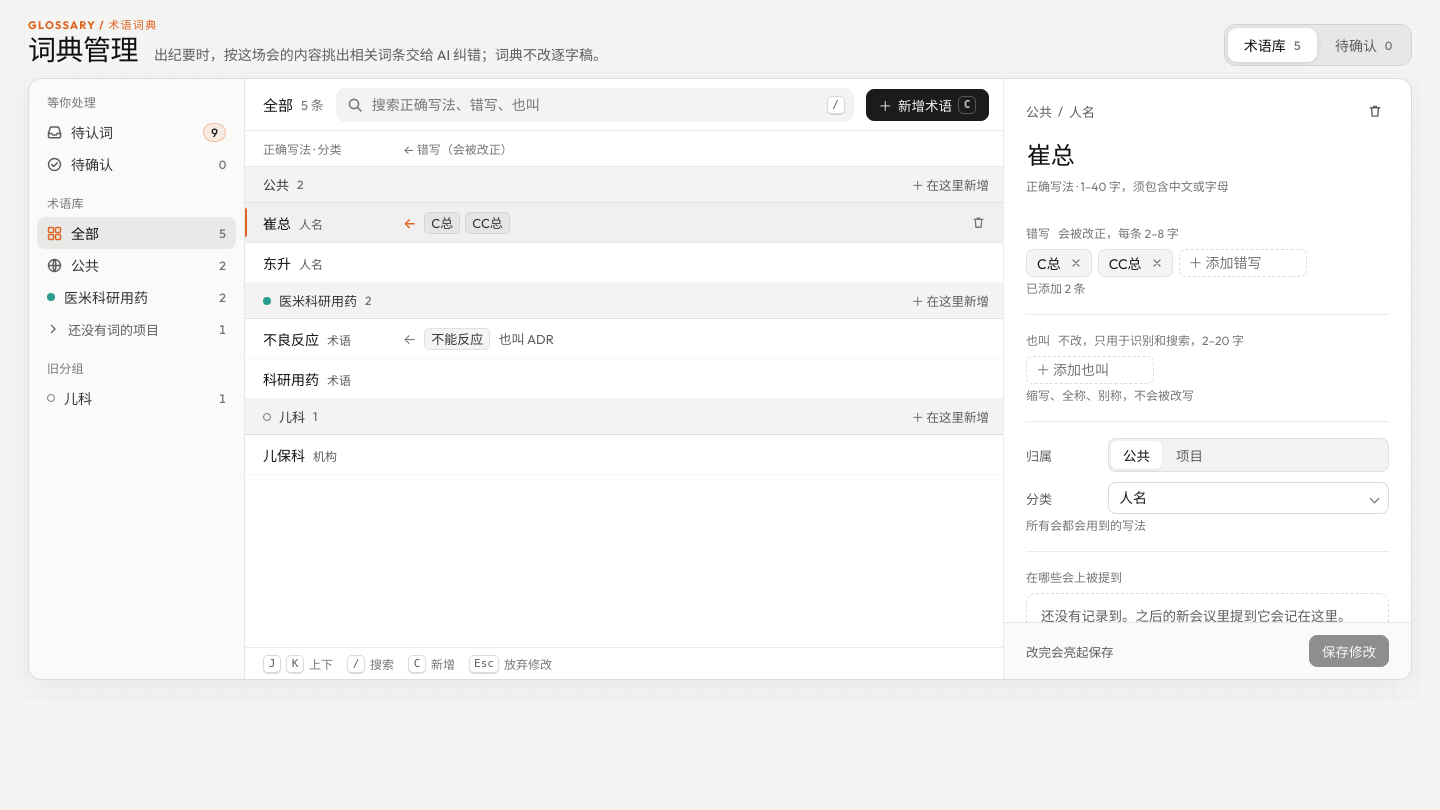
Test case: 词典页 · 左栏 › 等你处理：待认词和待确认带数字；术语库：全部、公共、有词项目、旧分组
Expected: the text "崔总" is shown, [263,213,291,233]
Expected: the field named "正确写法" is shown, [1020,133,1395,173]
// 旧分组桶照常作为范围可进
Step 1. Click the button "儿科 1" → click(136, 398), box [37,382,236,414]
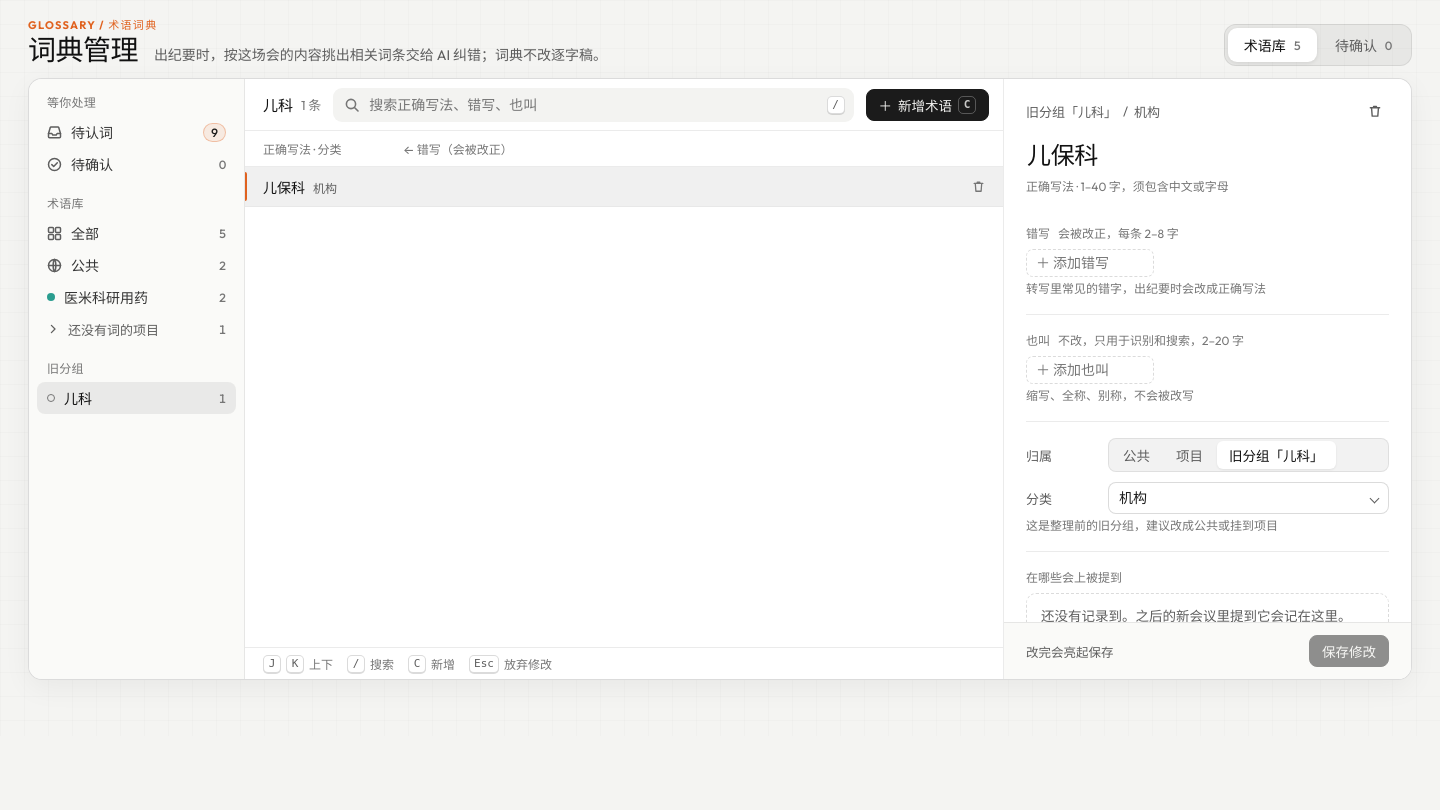
Expected: the text "儿保科" is shown, [263,177,305,197]
Now the option "崔总" is gone
